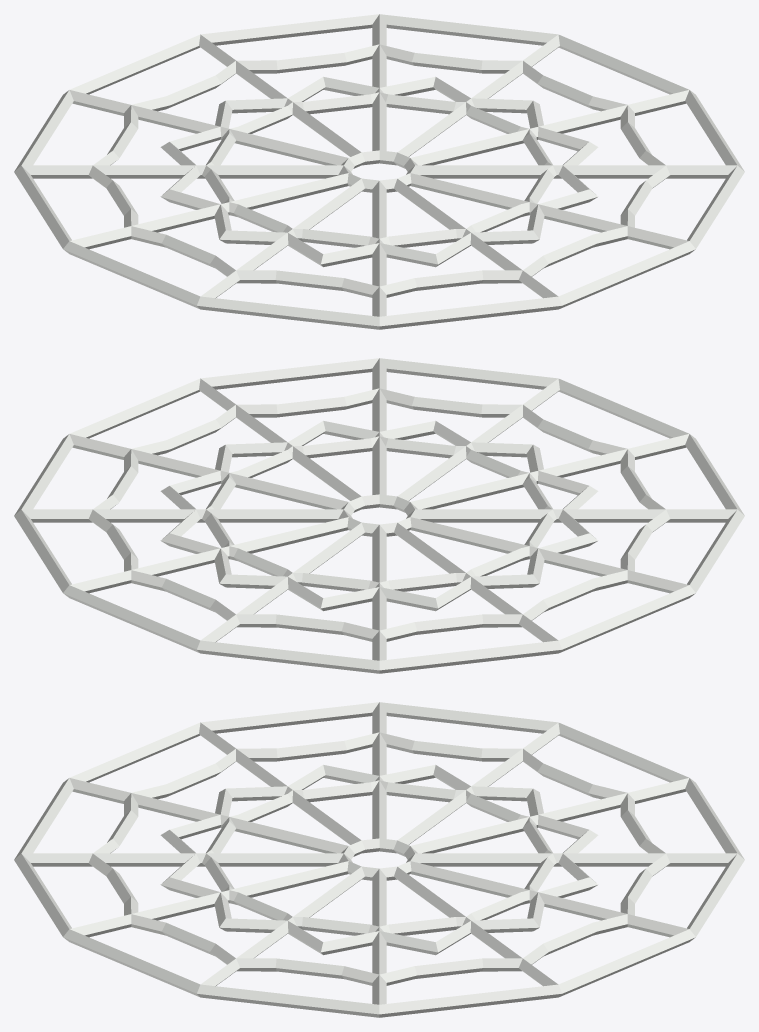
File: SpiderWeb.fbx
The picture shows the model from 3 angles, top to bottom: view 1: azimuth 30°, elevation 25°; view 2: azimuth 150°, elevation 25°; view 3: azimuth 270°, elevation 25°; orthographic projection.
Visible parts, largest first — view 1: Circle; view 2: Circle; view 3: Circle.
Boxes of the visible parts, left/top/right/bottom form: Circle: left=14, top=14, right=744, bottom=329; Circle: left=14, top=358, right=744, bottom=673; Circle: left=14, top=702, right=744, bottom=1017.
Size of the model in its own units: 56.81 by 1.12 by 56.81.
Materials: 1 (1 with a texture image).
